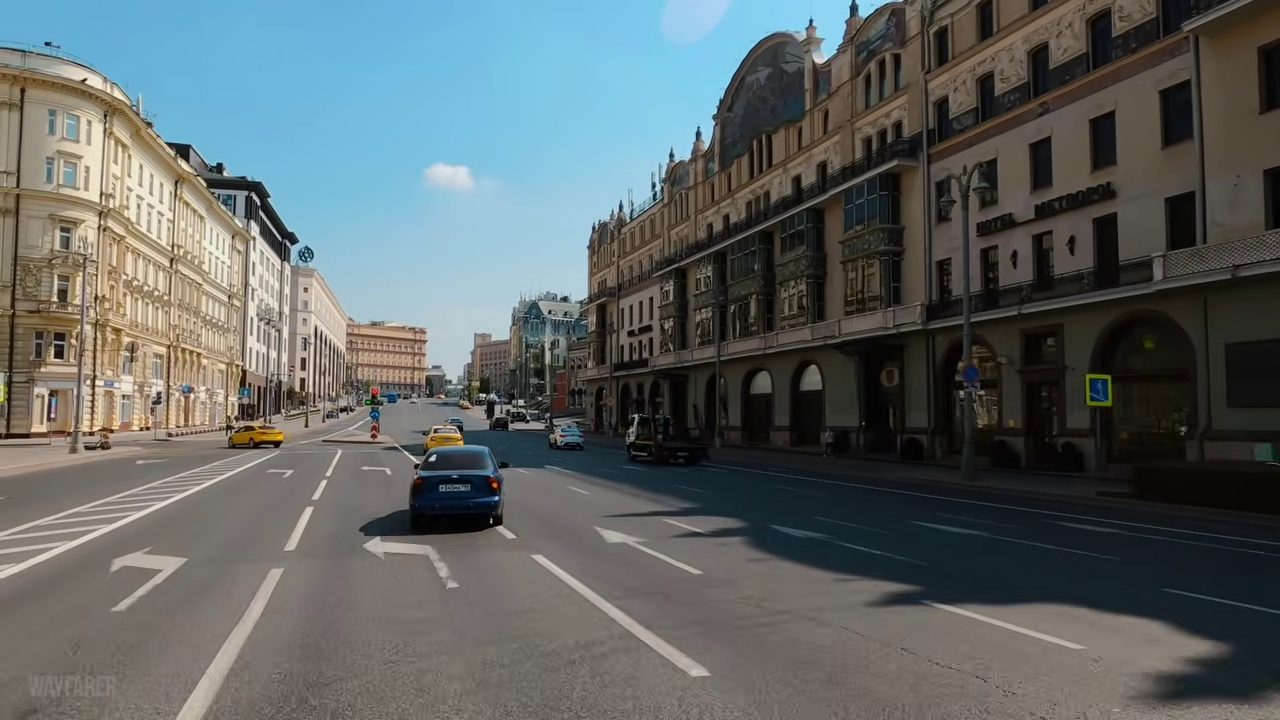acesa: (432, 165, 469, 187)
apagada: (937, 166, 997, 231)
